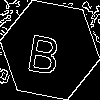B: (25, 25, 64, 76)
